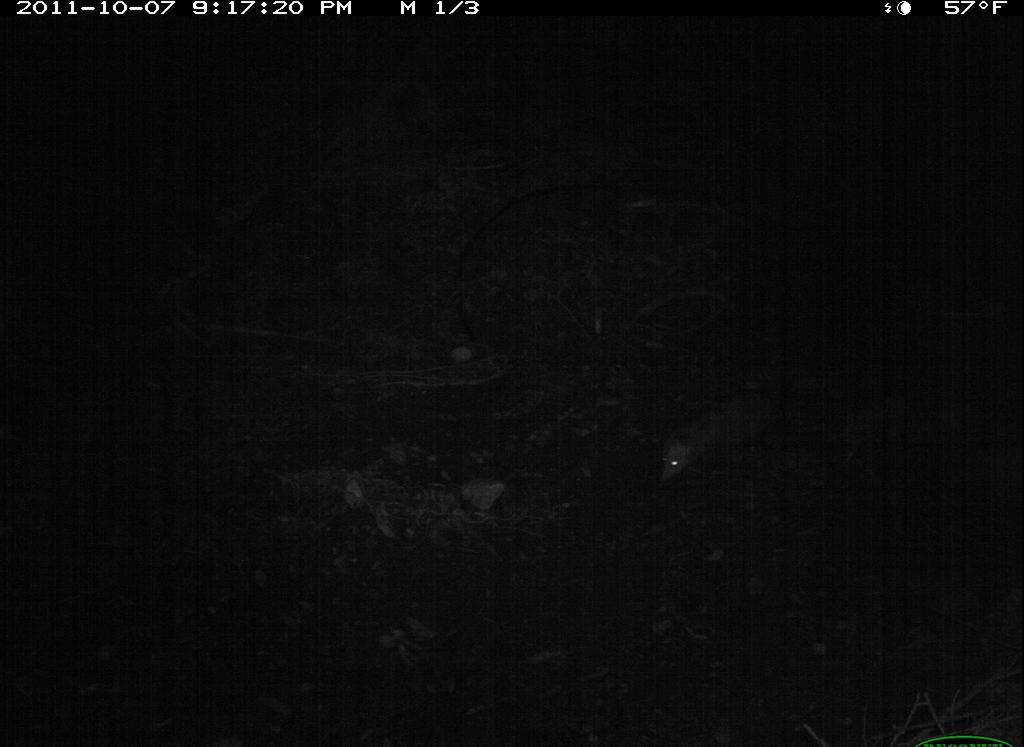opossum: (647, 396, 795, 501)
